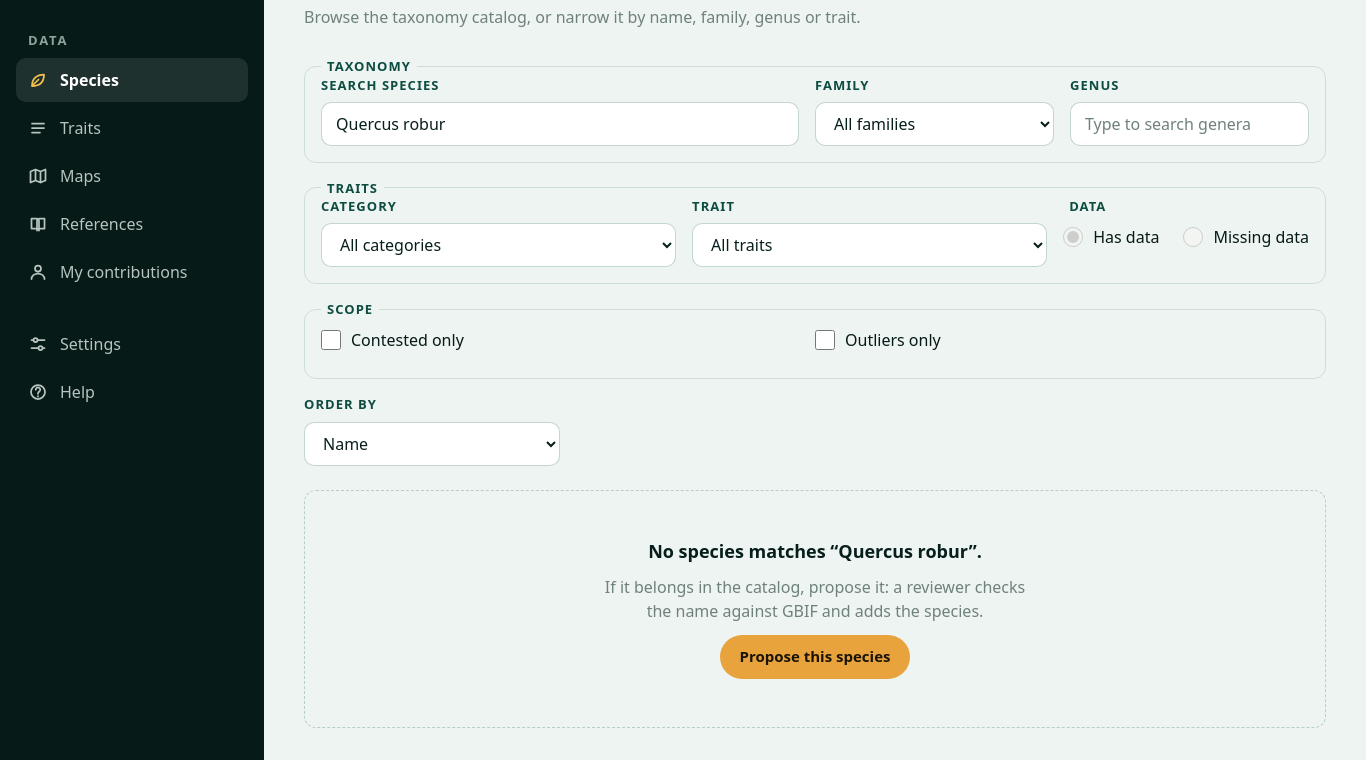
Test: RFC-60 R6 SpeciesSearchPage trait filters, order and the URL › RFC-75 R2 an empty search names the term and offers Propose this species with taxa.propose
(page scrolled)
Click the button "Propose this species": (815, 657) [720, 635, 910, 679]
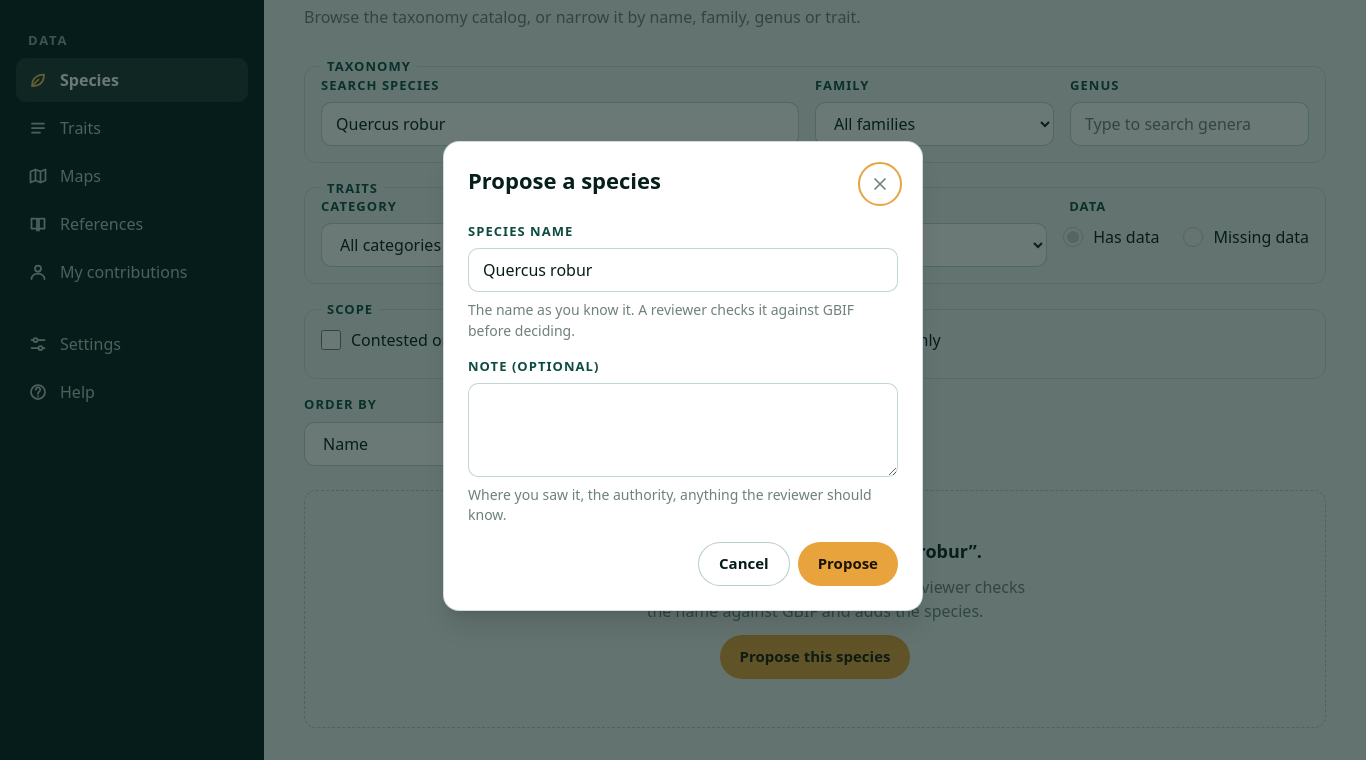
expect the field labelled "Species name" holds "Quercus robur": met, box [468, 248, 898, 292]
